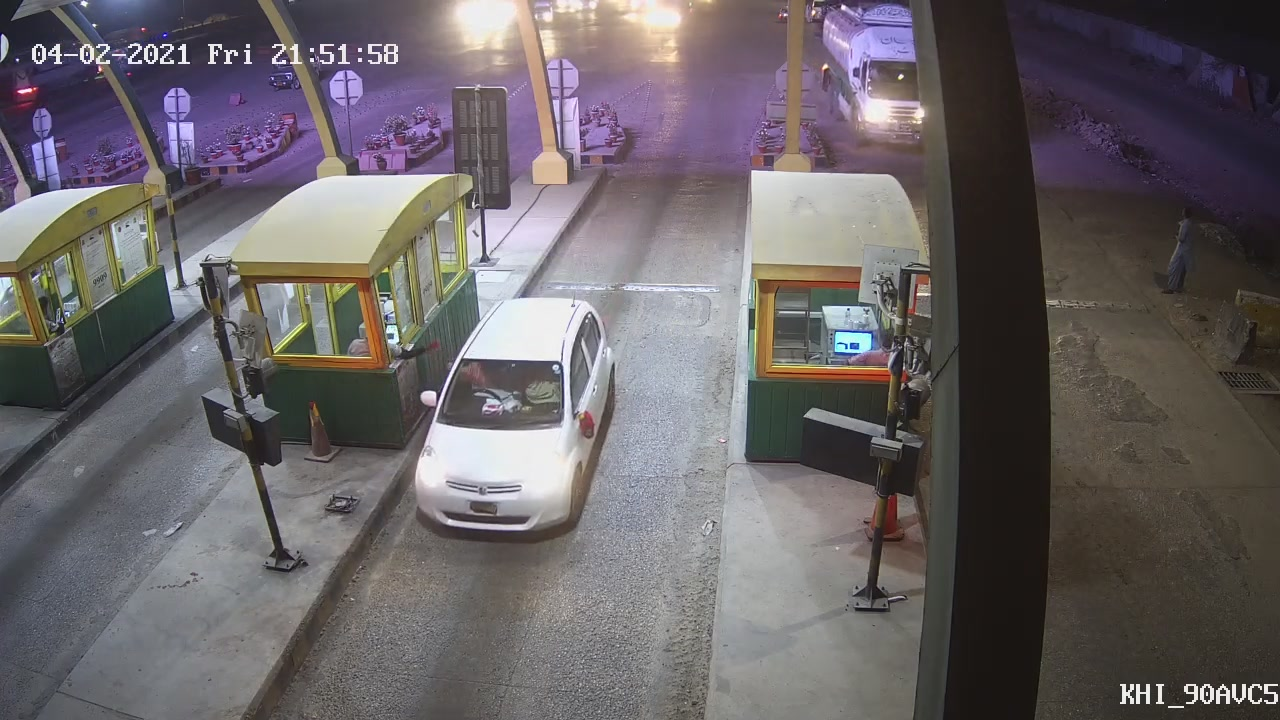F1: (395, 288, 623, 546)
